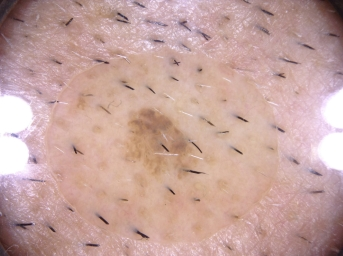seborrheic keratosis: (104, 87, 211, 192)
